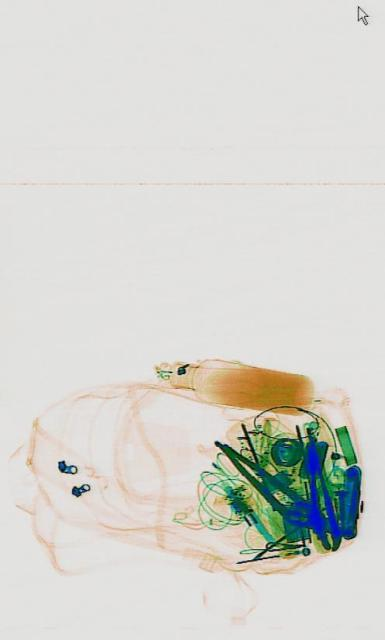Pliers: (208, 425, 325, 543)
